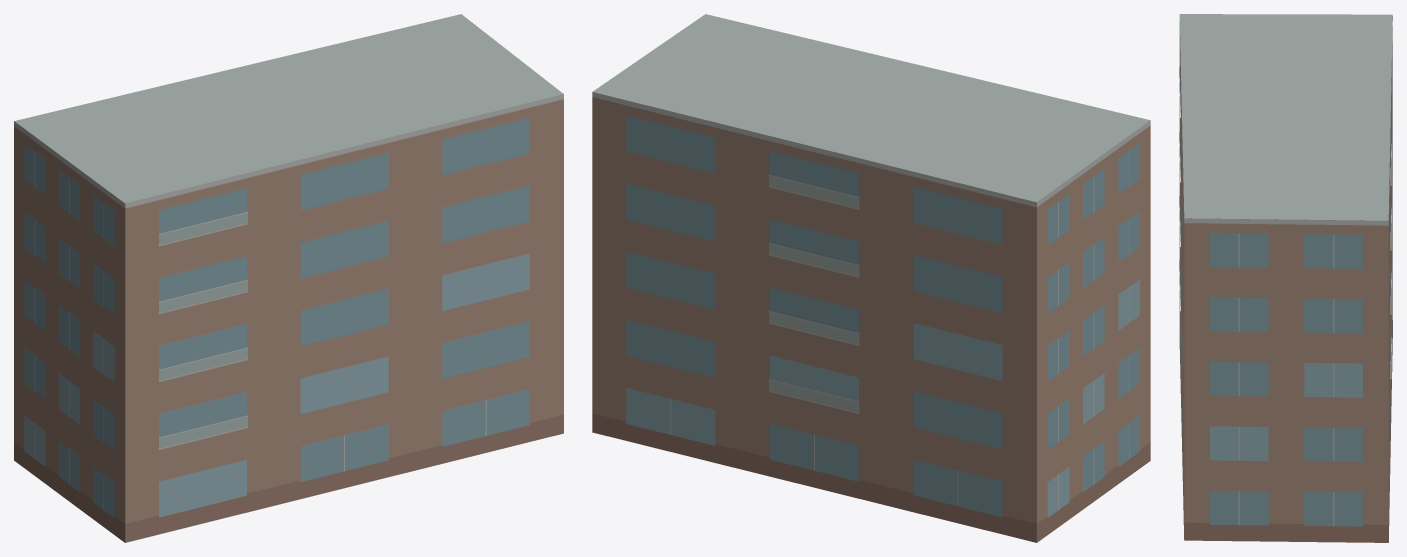
Rendered from survey-upis-32819878.glb.
The picture shows the model from 3 angles, left to right: view 1: azimuth 30°, elevation 25°; view 2: azimuth 150°, elevation 25°; view 3: azimuth 270°, elevation 25°; orthographic projection. The views are drawn at different scales.
Visible parts, largest first — view 1: survey-upis-32819878.tmp; view 2: survey-upis-32819878.tmp; view 3: survey-upis-32819878.tmp.
Boxes of the visible parts, x1,y1,x2,y2 form: survey-upis-32819878.tmp: (14,14,563,542); survey-upis-32819878.tmp: (592,14,1150,542); survey-upis-32819878.tmp: (1179,14,1392,542).
Bounding box in the file's own units: 22.44 × 16.3 × 9.8.
